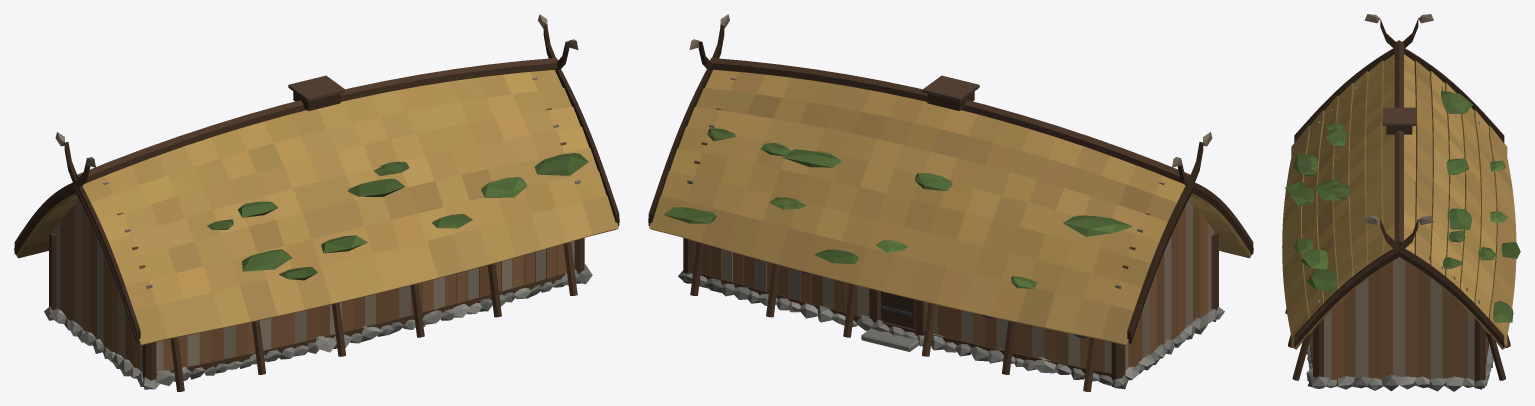
File: Longhouse.glb
3 renders of one model, left to right at view 1: azimuth 30°, elevation 25°; view 2: azimuth 150°, elevation 25°; view 3: azimuth 270°, elevation 25°, orthographic. The views are drawn at different scales.
Visible parts, largest first — view 1: Mat_Thatch_a1824c, Mat_Wood_7c6242, Mat_Wood_513825, Mat_Wood_3e2b1d, Mat_Stone_7e7c75, Mat_Stone_6b6964, Mat_Leaves_42572b, Mat_Leaves_49602f, Mat_Leaves_516b35, Mat_Thatch_846a3a; view 2: Mat_Thatch_a1824c, Mat_Wood_513825, Mat_Wood_7c6242, Mat_Wood_3e2b1d, Mat_Stone_7e7c75, Mat_Stone_6b6964, Mat_Leaves_516b35, Mat_Leaves_49602f, Mat_Leaves_42572b, Mat_Thatch_846a3a; view 3: Mat_Thatch_a1824c, Mat_Wood_7c6242, Mat_Wood_513825, Mat_Wood_3e2b1d, Mat_Thatch_846a3a, Mat_Leaves_49602f, Mat_Leaves_516b35, Mat_Leaves_42572b, Mat_Stone_6b6964, Mat_Stone_7e7c75.
Part boxes in pixels (<box>): Mat_Thatch_a1824c: <box>25,70,618,372</box>; Mat_Wood_7c6242: <box>16,14,617,371</box>; Mat_Wood_513825: <box>14,58,584,380</box>; Mat_Wood_3e2b1d: <box>14,25,619,391</box>; Mat_Stone_7e7c75: <box>44,269,578,389</box>; Mat_Stone_6b6964: <box>44,264,592,386</box>; Mat_Leaves_42572b: <box>207,153,588,279</box>; Mat_Leaves_49602f: <box>207,156,588,280</box>; Mat_Leaves_516b35: <box>238,177,527,258</box>; Mat_Thatch_846a3a: <box>18,203,566,339</box>; Mat_Thatch_a1824c: <box>649,70,1226,344</box>; Mat_Wood_513825: <box>683,58,1247,391</box>; Mat_Wood_7c6242: <box>650,14,1251,372</box>; Mat_Wood_3e2b1d: <box>648,25,1253,377</box>; Mat_Stone_7e7c75: <box>699,275,1224,388</box>; Mat_Stone_6b6964: <box>678,270,1215,389</box>; Mat_Leaves_516b35: <box>664,149,1114,288</box>; Mat_Leaves_49602f: <box>663,130,1132,288</box>; Mat_Leaves_42572b: <box>682,128,858,264</box>; Mat_Thatch_846a3a: <box>676,197,1242,345</box>; Mat_Thatch_a1824c: <box>1282,54,1516,379</box>; Mat_Wood_7c6242: <box>1291,14,1506,380</box>; Mat_Wood_513825: <box>1292,40,1494,388</box>; Mat_Wood_3e2b1d: <box>1285,19,1512,380</box>; Mat_Thatch_846a3a: <box>1301,60,1497,333</box>; Mat_Leaves_49602f: <box>1285,90,1513,322</box>; Mat_Leaves_516b35: <box>1291,92,1511,322</box>; Mat_Leaves_42572b: <box>1285,123,1520,317</box>; Mat_Stone_6b6964: <box>1306,343,1492,391</box>; Mat_Stone_7e7c75: <box>1306,343,1493,391</box>.
Size of the model in its own units: 33.26 by 14.02 by 16.45.
1 material, 1 textured.
